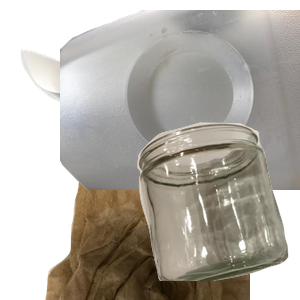glass: (135, 120, 300, 300)
paper: (18, 30, 213, 210)
plastic: (60, 10, 300, 190)
trash: (43, 120, 283, 300)
